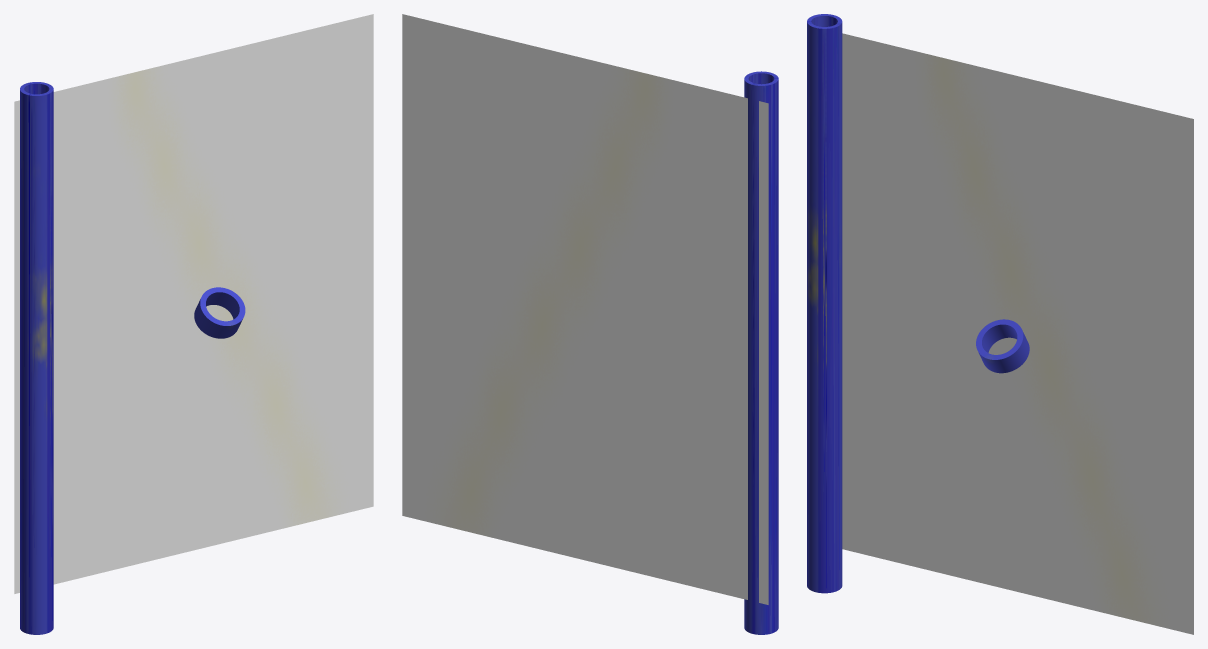
3 renders of one model, left to right at view 1: azimuth 30°, elevation 25°; view 2: azimuth 150°, elevation 25°; view 3: azimuth 330°, elevation 25°, orthographic. The views are drawn at different scales.
Visible parts, largest first — view 1: root (×3); view 2: root (×2); view 3: root (×3).
Part boxes in pixels (x1=…): root (×3): x1=14, y1=14, x2=373, y2=634; root (×2): x1=402, y1=14, x2=778, y2=634; root (×3): x1=807, y1=14, x2=1193, y2=634.
Size of the model in its own units: 5.3 by 7.59 by 0.7093.
3 materials, 3 textured.
